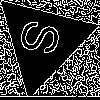S: (18, 16, 70, 61)
